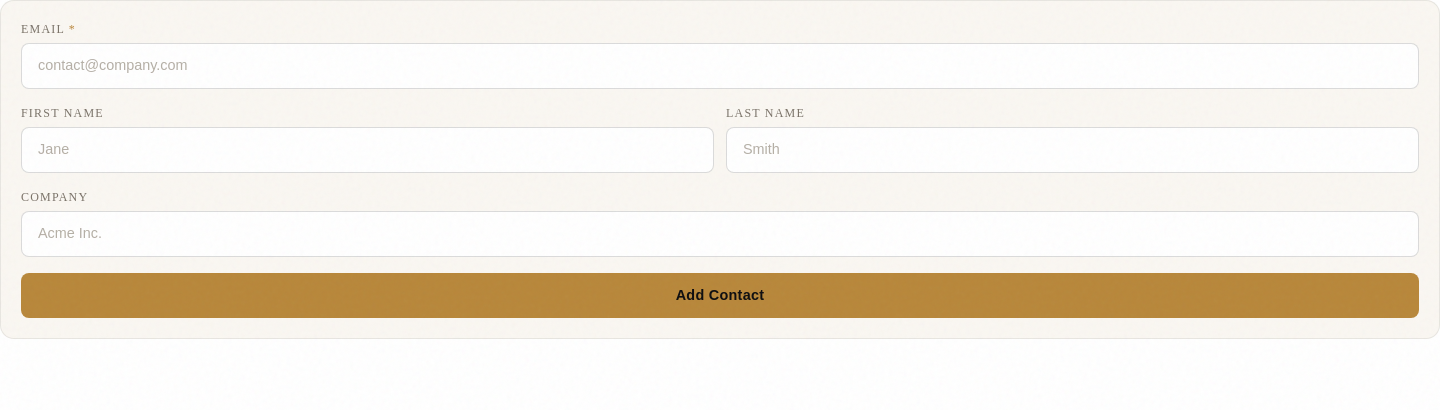
AddContactForm › shows 'Contact added' success message on success
This screenshot has width=1440, height=410.
Step 1. Type "jane@acme.com" into the field labelled "Email *" → (720, 66), box [21,43,1419,89]
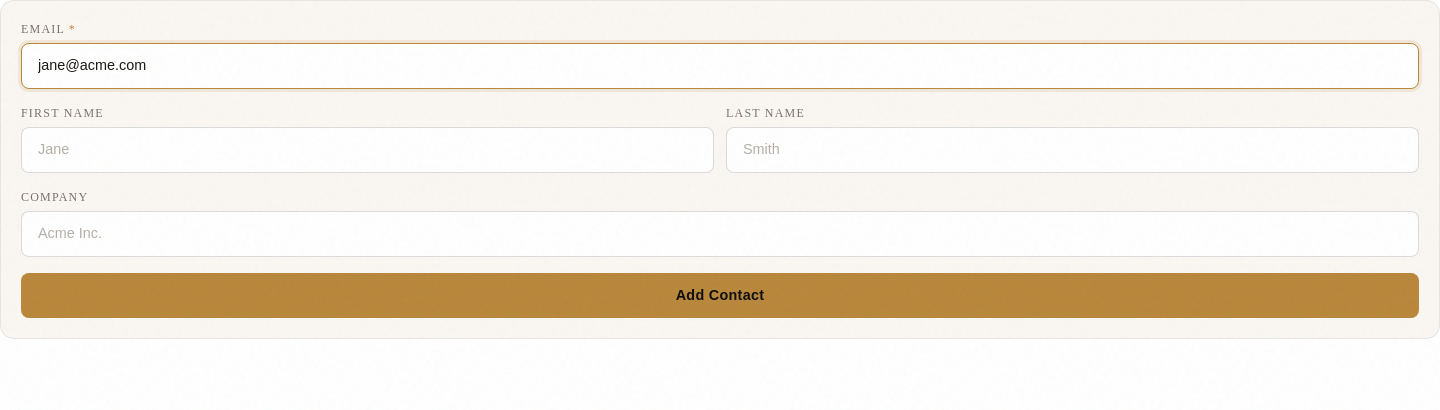
Step 2. Click the button "Add Contact" → (720, 296), box [21,273,1419,318]
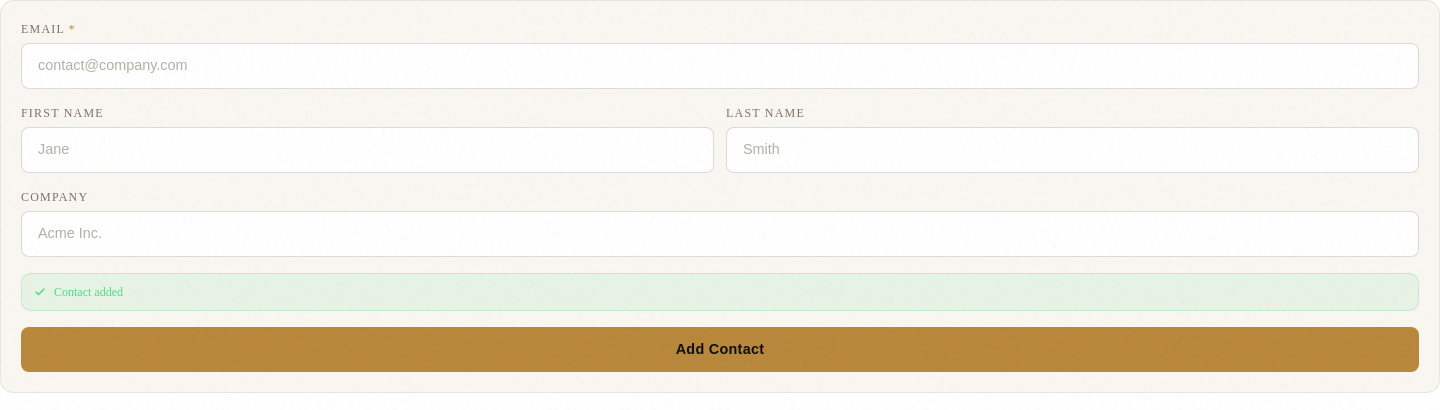
Result: the text "Contact added" is shown at [21,273,1419,311]
